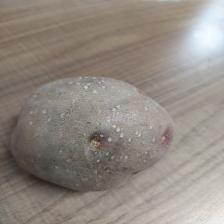Damaged potato: (7, 72, 181, 196)
